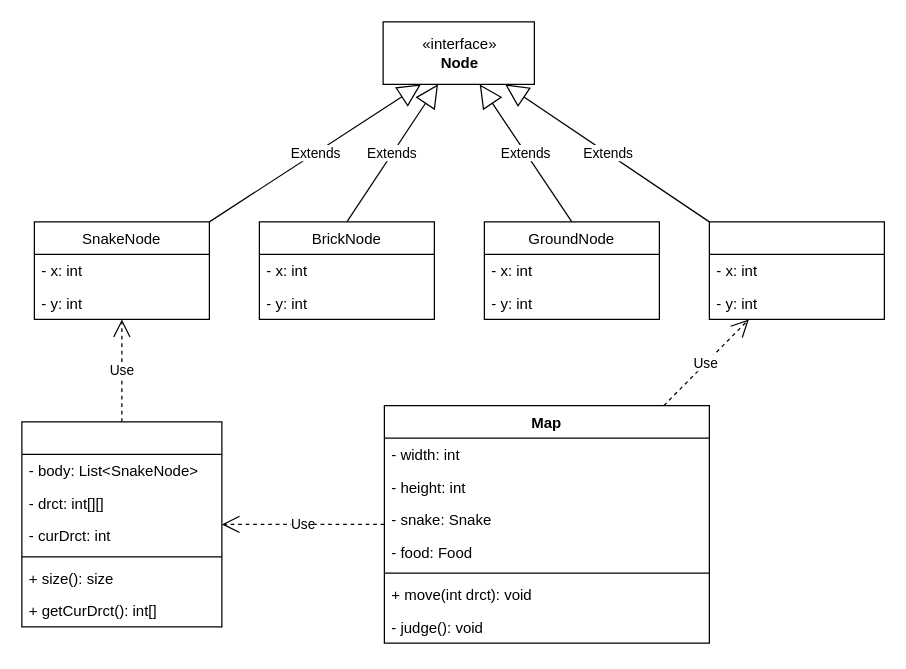
Image size: 906x669. Some labels were removed from this diagram. Each missing label, with the box of its shape:
Food: (708, 221, 884, 319)
Snake: (21, 421, 222, 627)
